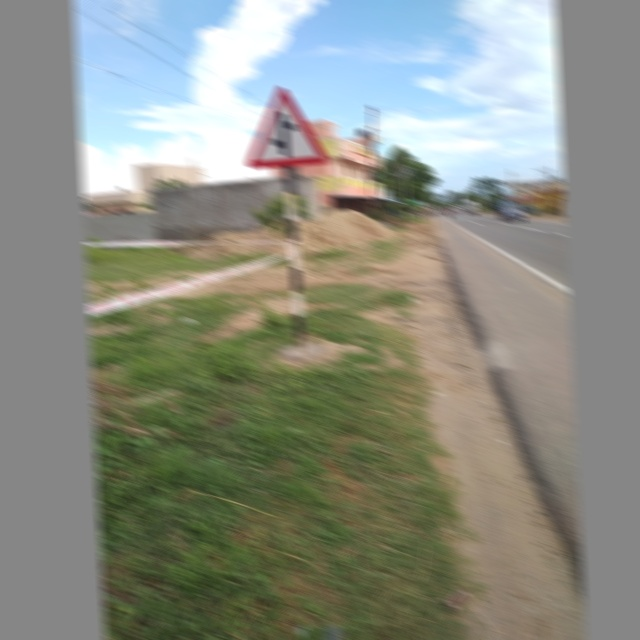Staggered_Intersection: (240, 79, 340, 178)
